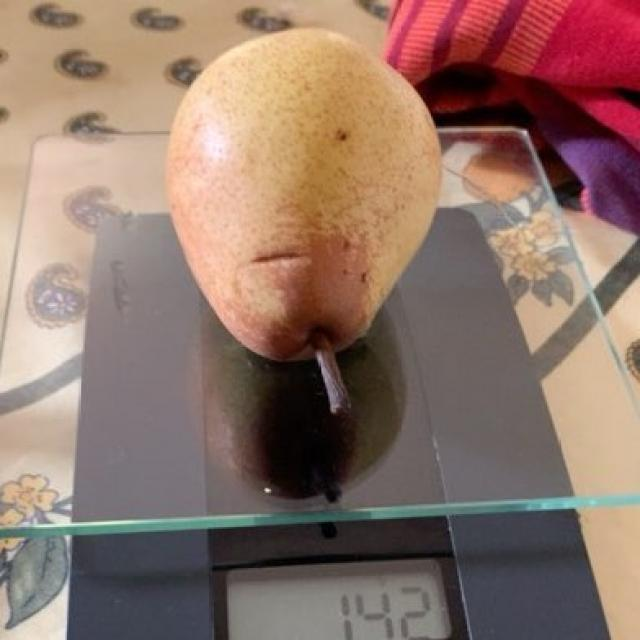pear: (166, 34, 430, 354)
